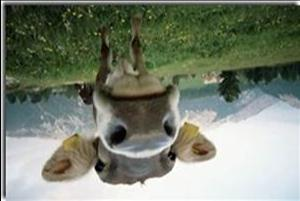cow: (41, 12, 217, 187)
